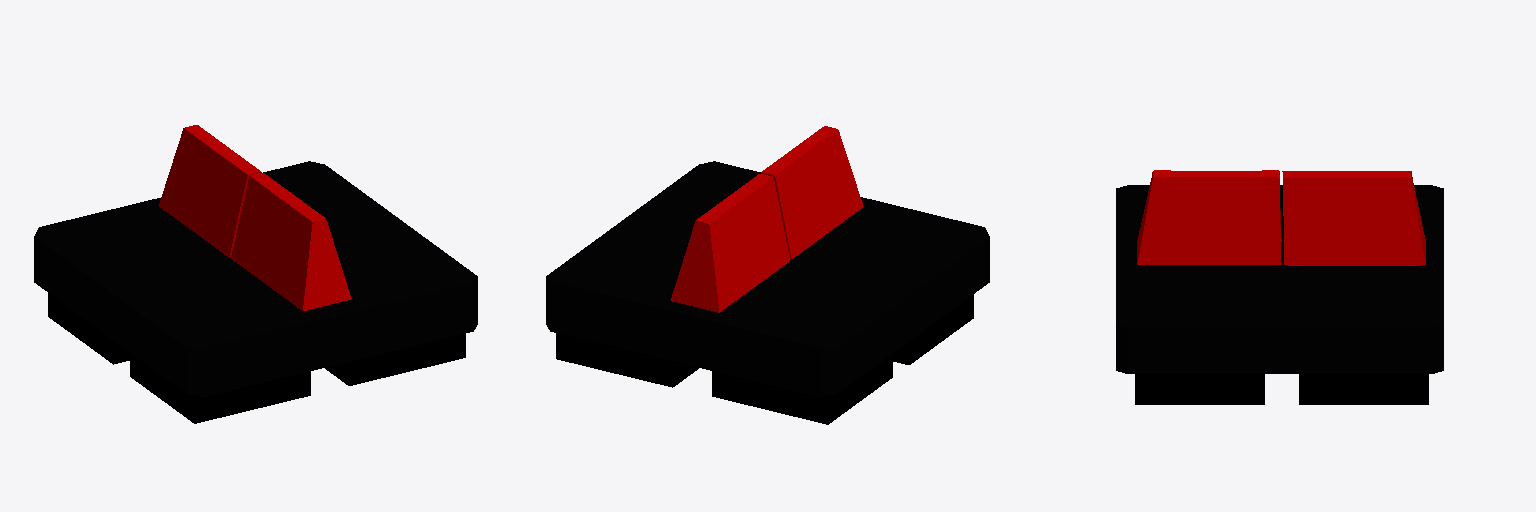
File: sofá-centro.obj
3 views of the same model, side by side, from view 1: azimuth 30°, elevation 25°; view 2: azimuth 150°, elevation 25°; view 3: azimuth 270°, elevation 25° (orthographic).
Parts seen in each view (by area): view 1: Cube.002; view 2: Cube.002; view 3: Cube.002.
Boxes of the visible parts, <box> form: Cube.002: <box>34,125,477,423</box>; Cube.002: <box>546,126,989,424</box>; Cube.002: <box>1116,170,1443,404</box>.
Size of the model in its own units: 3.34 by 1.8 by 3.26.